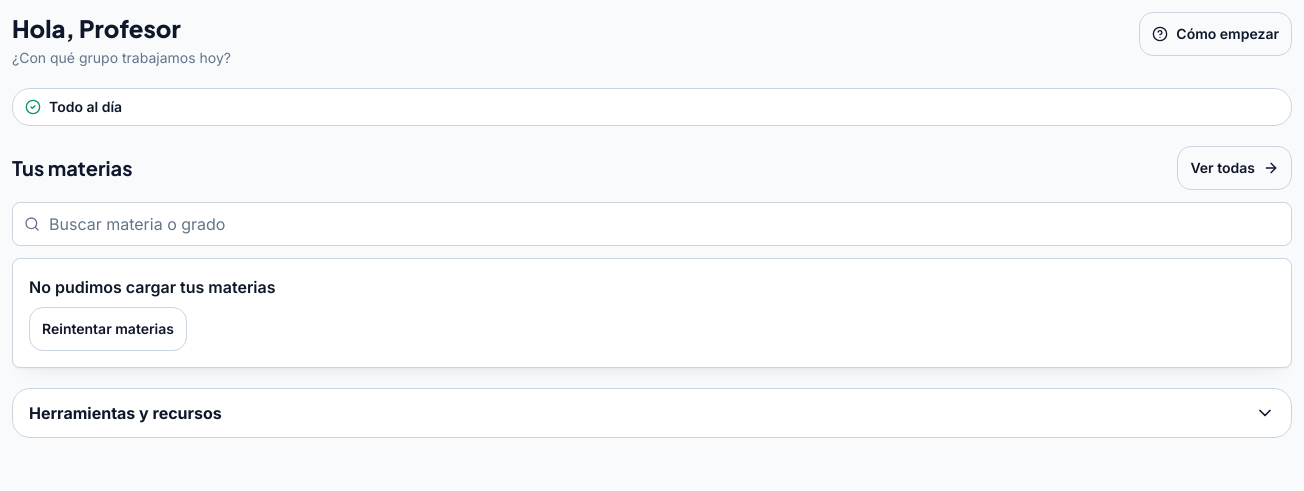
Scenario: DashboardPage docente › distinguishes empty subjects from errors with an independent retry
Expected: the text "No pudimos cargar tus materias" is shown, x1=29 y1=277 x2=276 y2=297
Expected: the text "Crea tu primera materia" is not shown
Click the button "Reintentar materias": (108,329) x1=29 y1=307 x2=187 y2=351
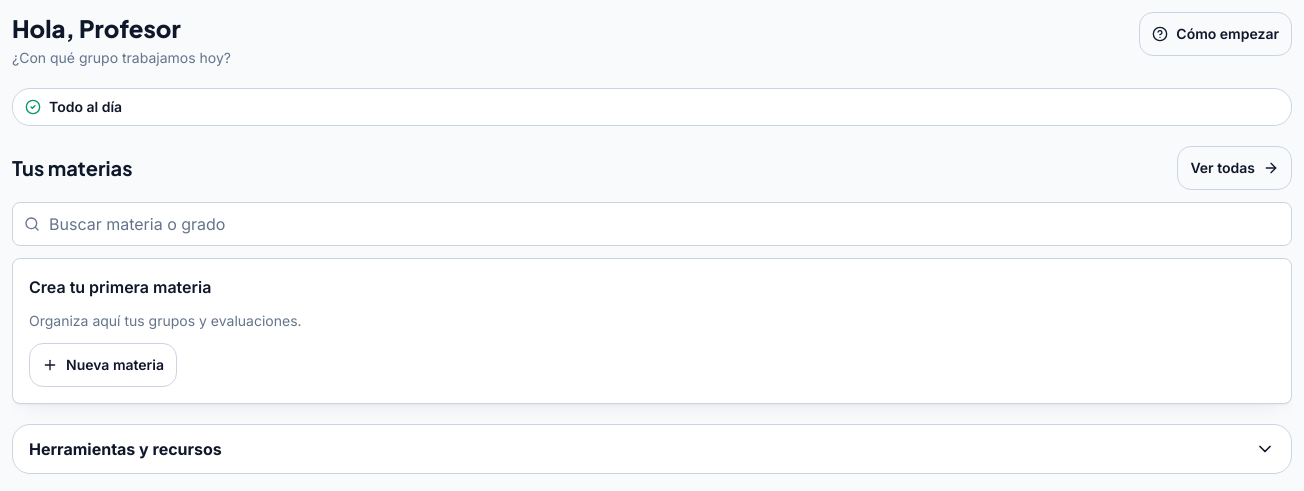
Now the text "Crea tu primera materia" is shown, box x1=29 y1=277 x2=211 y2=297
